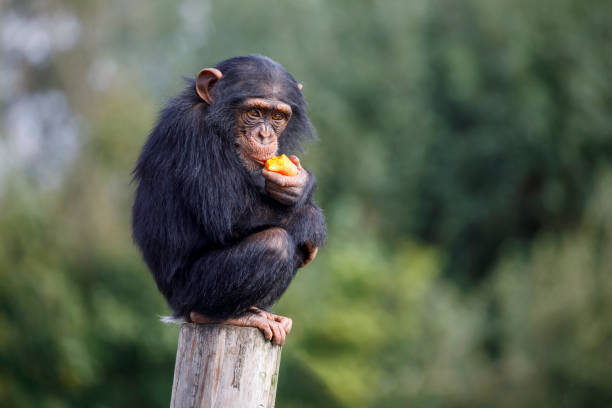chimpanzee: (182, 48, 332, 193)
